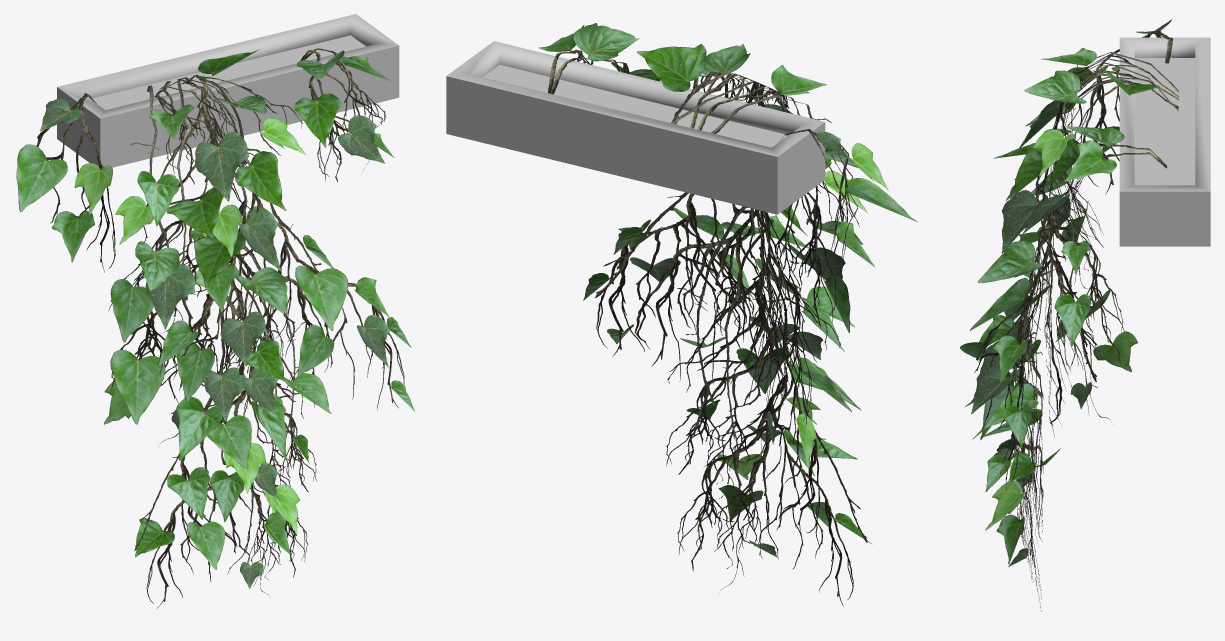
File: SM_Ivy_Planter_01.FBX
3 views of the same model, side by side, from view 1: azimuth 30°, elevation 25°; view 2: azimuth 150°, elevation 25°; view 3: azimuth 270°, elevation 25° (orthographic). The views are drawn at different scales.
Parts seen in each view (by area): view 1: SM_Ivy_Planter_01; view 2: SM_Ivy_Planter_01; view 3: SM_Ivy_Planter_01.
Part boxes in pixels (box(x1,y1,x2,y2)): SM_Ivy_Planter_01: box(16, 14, 414, 608); SM_Ivy_Planter_01: box(446, 16, 917, 606); SM_Ivy_Planter_01: box(960, 19, 1210, 611).
Size of what is drawn, in the model's own units: 123 by 68.6 by 162.
